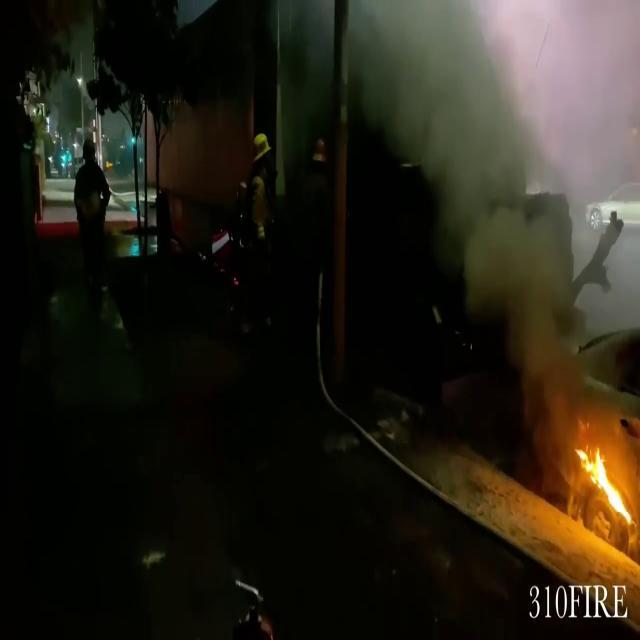Fire: (575, 434, 635, 532)
Smoke: (374, 0, 622, 438)
